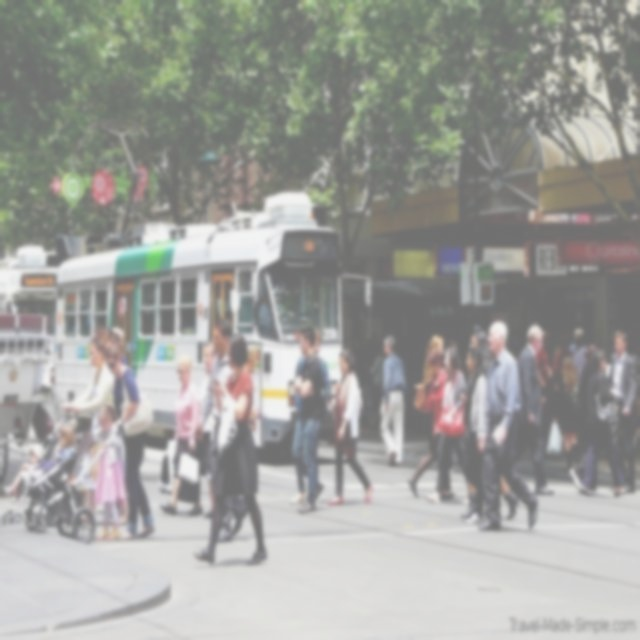pessoa: (190, 328, 269, 568), (59, 326, 130, 525), (476, 320, 540, 534), (192, 316, 251, 546), (102, 336, 158, 540), (287, 326, 334, 509), (406, 333, 457, 499), (577, 346, 632, 498), (325, 346, 375, 508), (513, 322, 556, 496), (423, 344, 469, 506), (159, 352, 204, 517), (290, 324, 324, 516), (90, 400, 129, 543), (607, 329, 639, 496), (462, 344, 490, 528), (569, 344, 599, 496), (194, 338, 219, 520), (546, 352, 582, 474), (377, 333, 407, 470), (17, 422, 77, 484), (84, 324, 132, 386), (552, 326, 595, 391), (255, 279, 300, 340), (2, 441, 46, 503), (423, 348, 448, 443), (534, 346, 552, 390), (468, 328, 487, 350)
